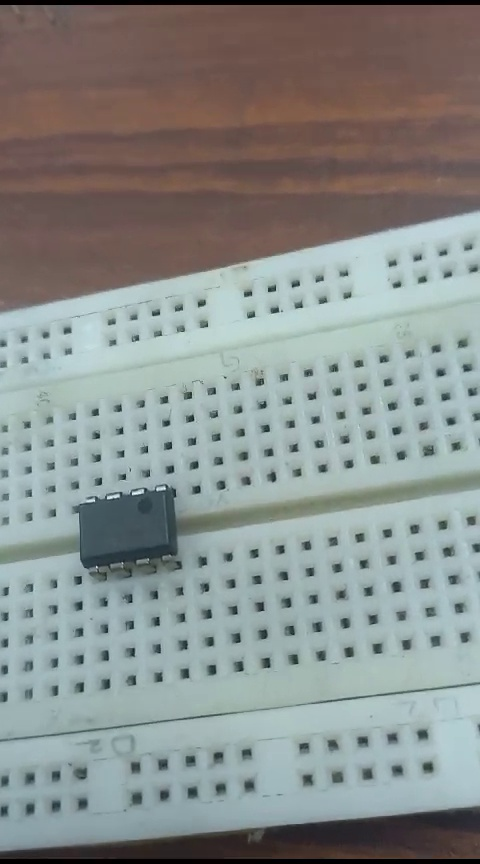IC: (67, 485, 183, 576)
